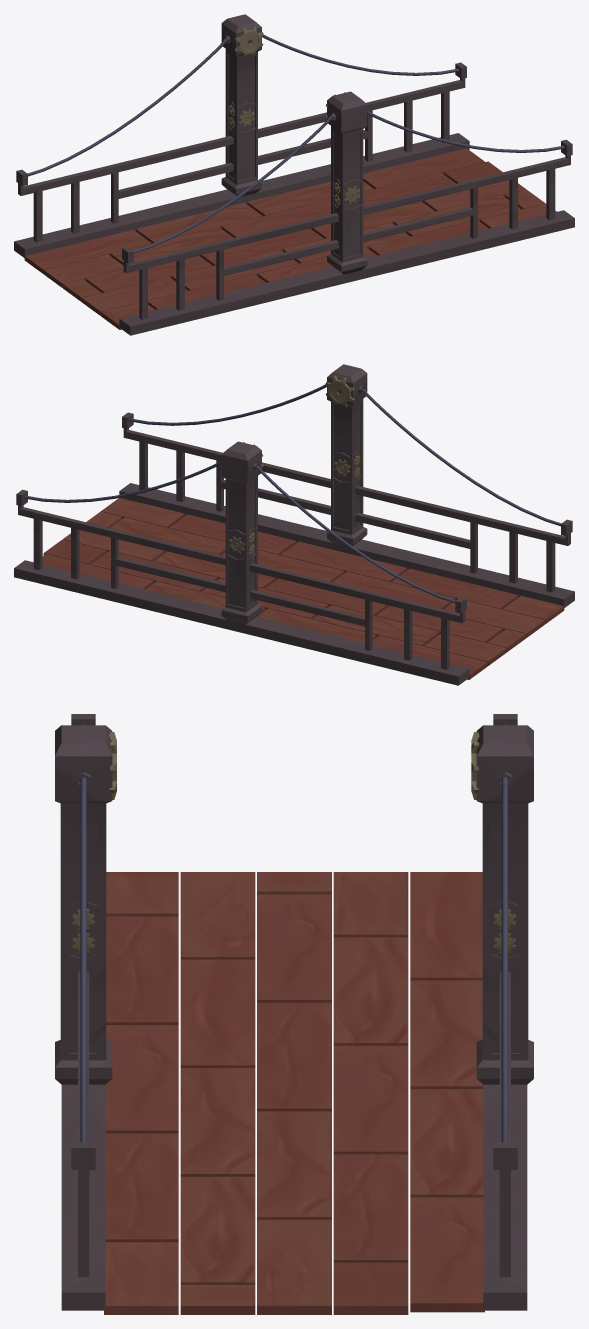
The model's file is bridge.fbx.
3 views of the same model, one above another, from view 1: azimuth 30°, elevation 25°; view 2: azimuth 150°, elevation 25°; view 3: azimuth 270°, elevation 25° (orthographic). The views are drawn at different scales.
Parts seen in each view (by area): view 1: Circle.041; view 2: Circle.041; view 3: Circle.041.
Part boxes in pixels (<box>): Circle.041: <box>14,14,574,335</box>; Circle.041: <box>14,364,574,685</box>; Circle.041: <box>55,714,533,1314</box>.
Size of the model in its own units: 820 by 321 by 383.
